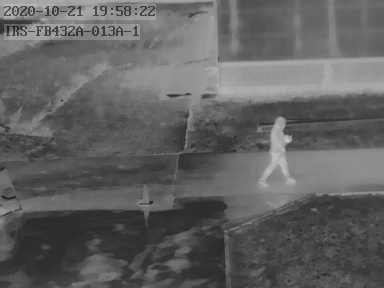person: (259, 117, 297, 187)
